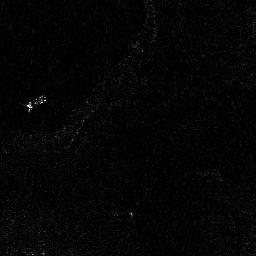ship: (26, 94, 48, 111)
